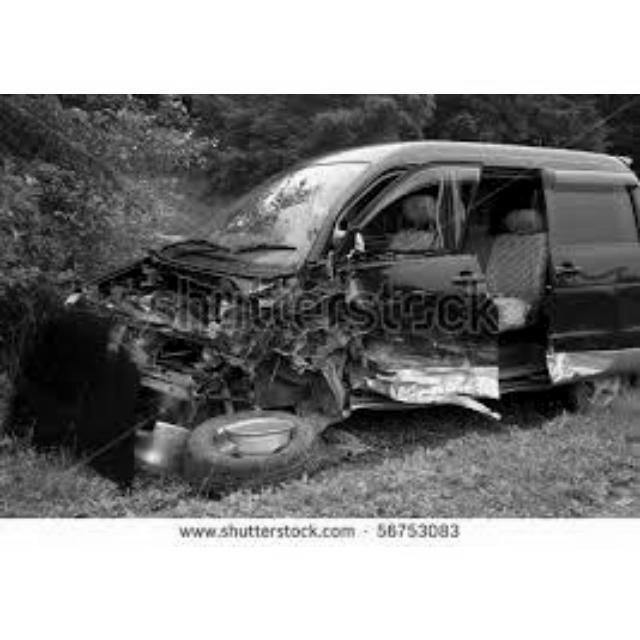Front-windscreen-damage: (201, 163, 335, 246)
bonnet-dent: (101, 260, 277, 319)
doorouter-dent: (348, 263, 482, 397)
front-bumper-dent: (50, 319, 223, 422)
